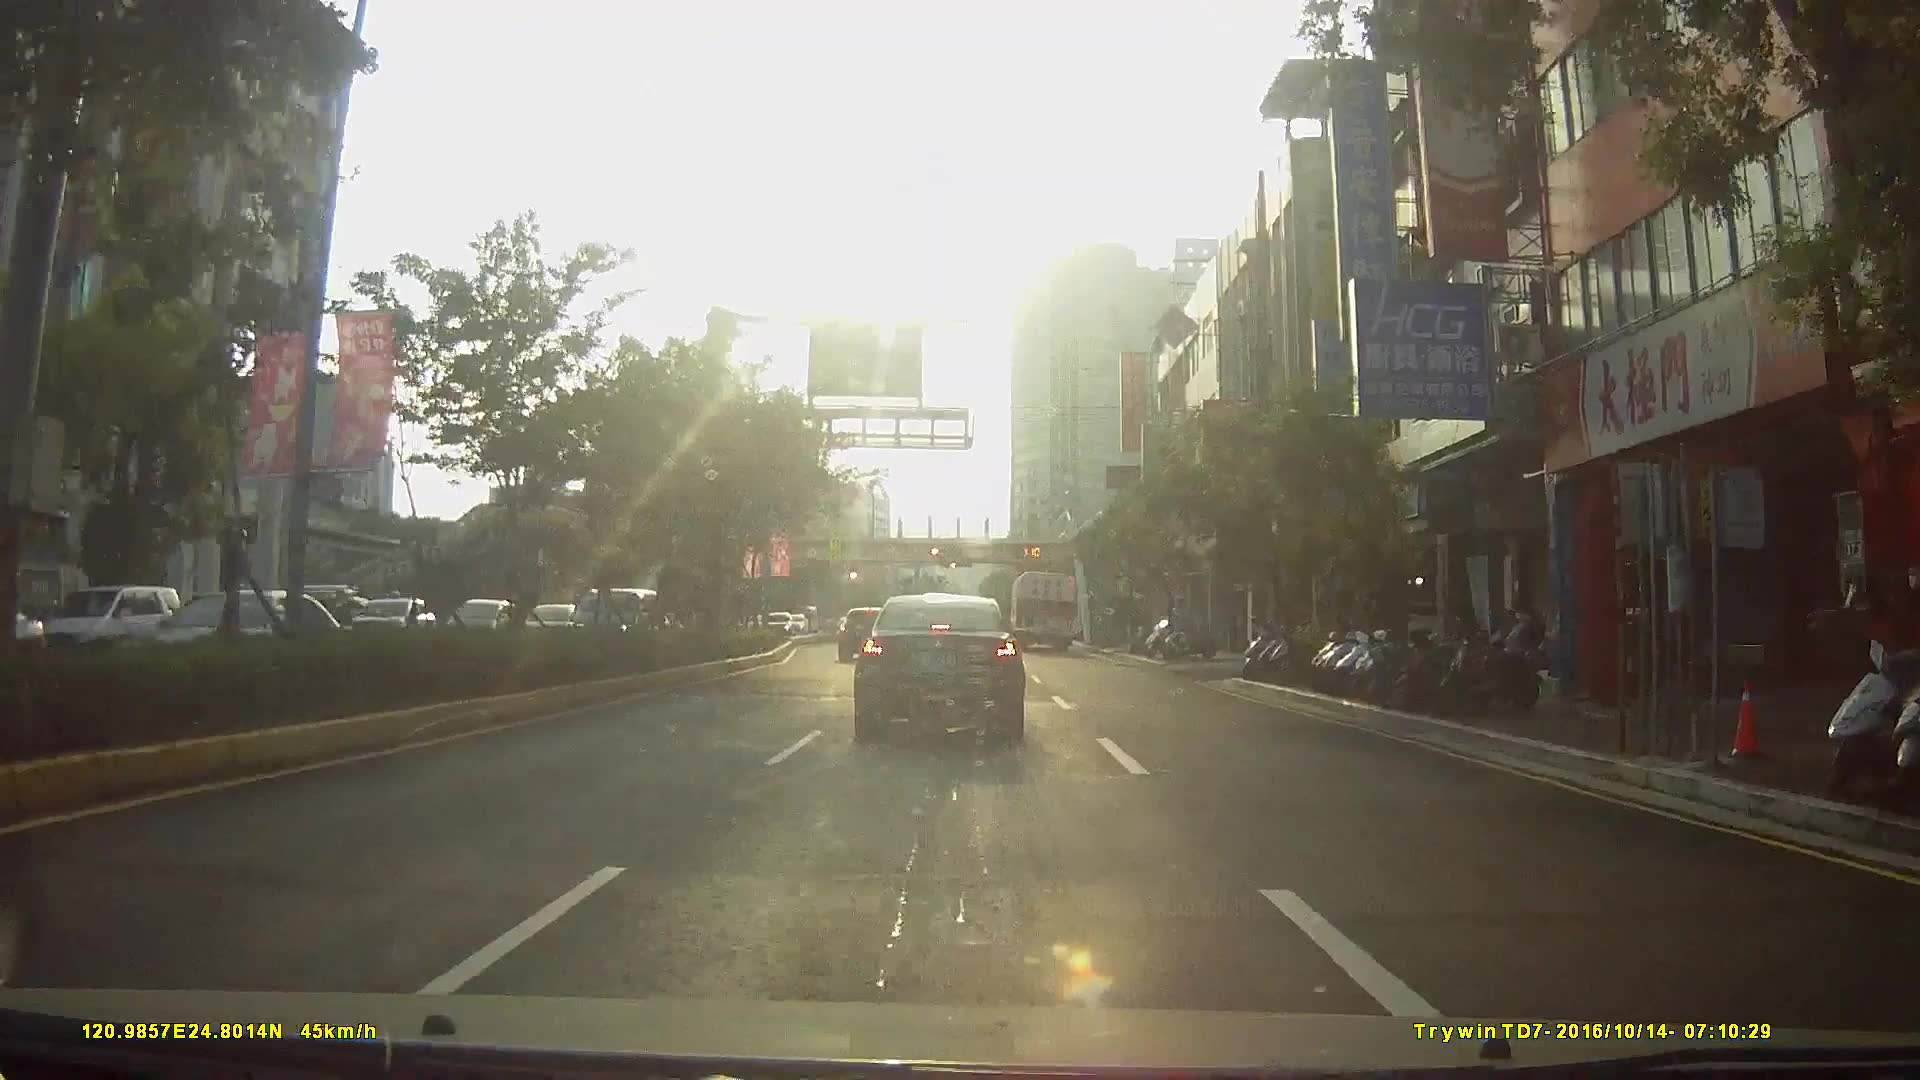vehicle: (851, 589, 1025, 744), (119, 589, 361, 692), (32, 587, 171, 663), (179, 591, 290, 657), (1007, 571, 1081, 655), (572, 589, 673, 651), (835, 607, 891, 661), (761, 611, 794, 637)
